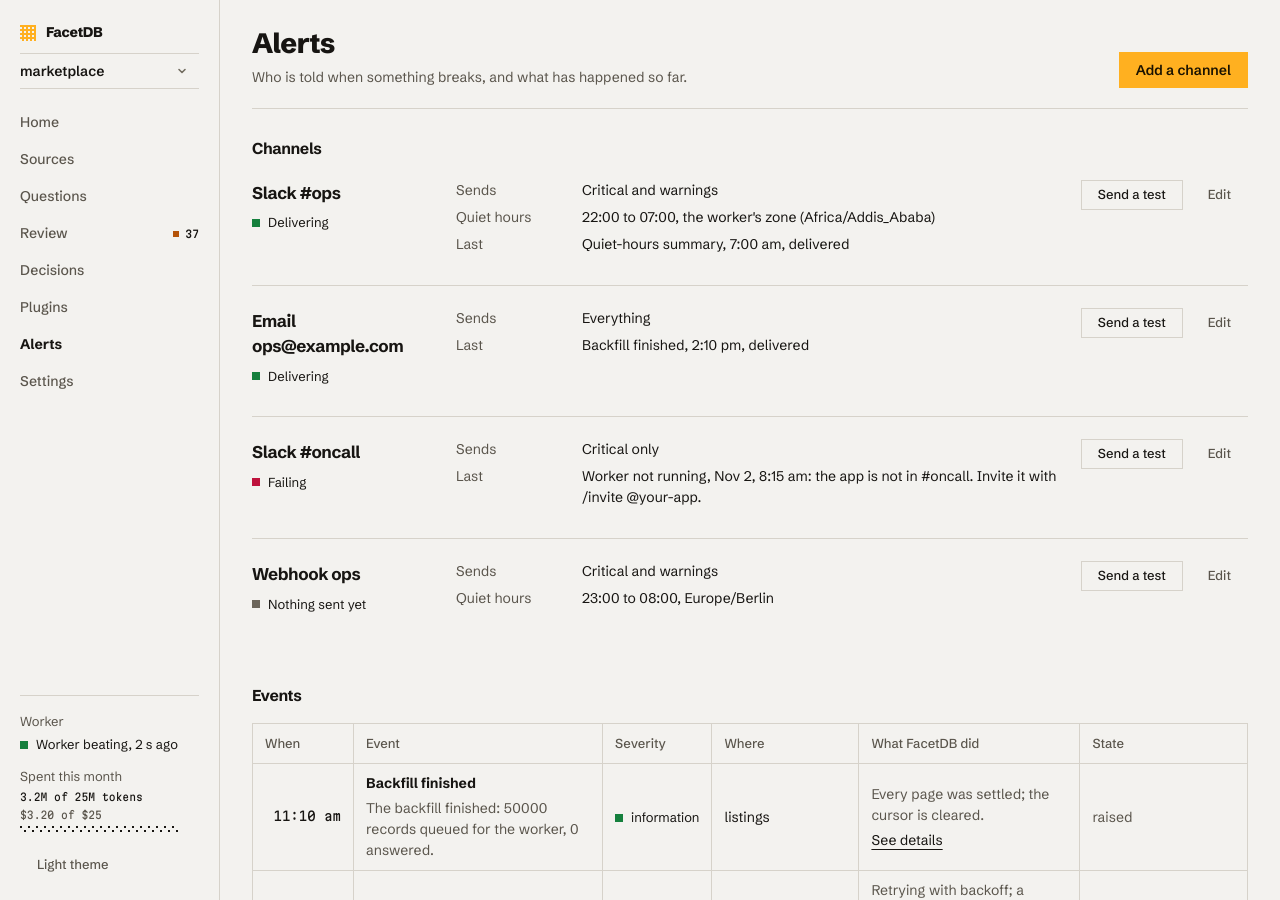
it: the Alerts page › names the channels in force, each with its state, and sends a test through one
Expected: the heading "Alerts" is shown, [252,26,335,60]
Expected: the text "Delivering" below "Slack #ops" is shown, [268,214,329,230]
Note: The test button sends one, and the row says the channel took it.
Click the button "Send a test" in the row of "Slack #ops". click: point(1132, 194)
box: [1081,180,1183,210]
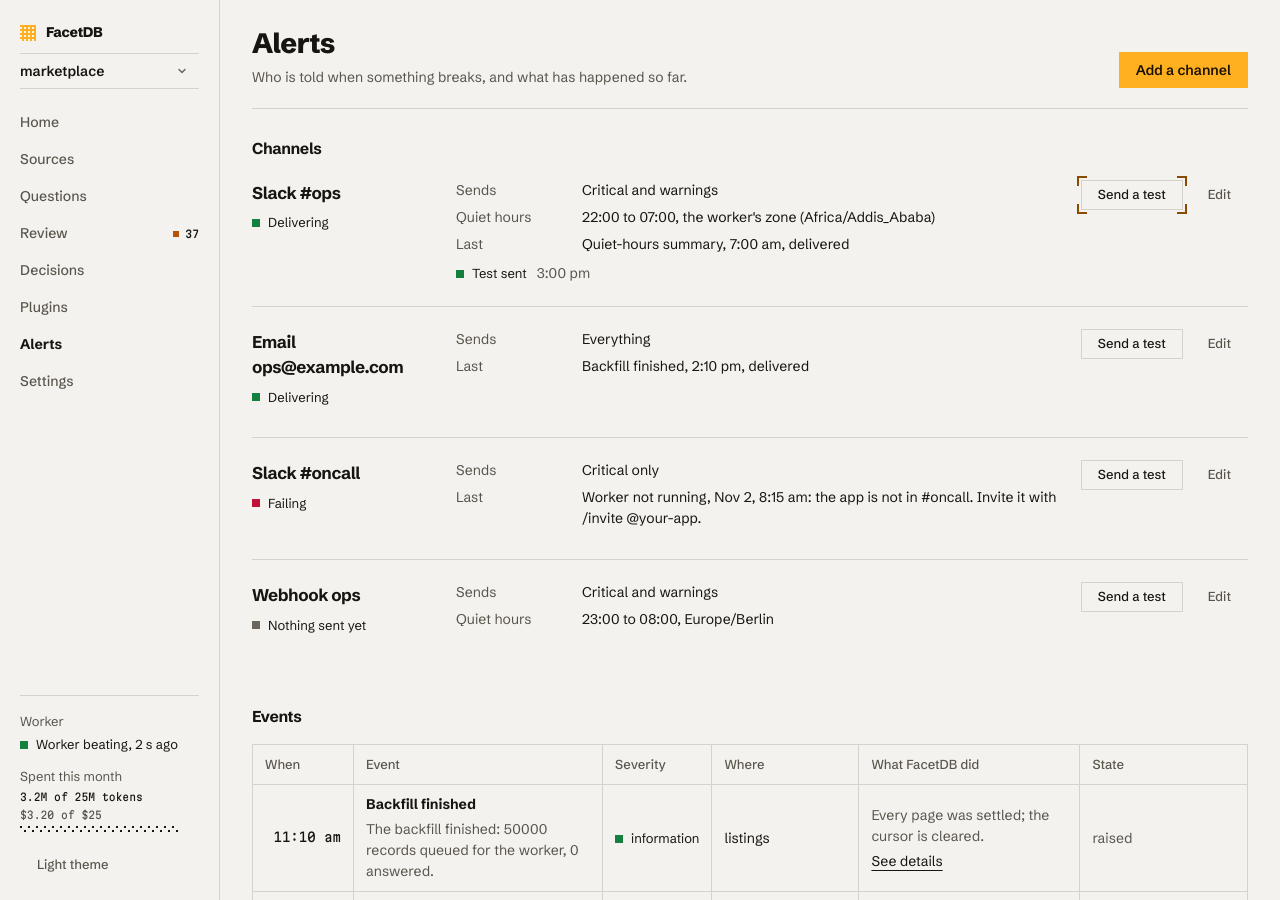
Now the text "Test sent" is shown, box [456,264,527,283]
